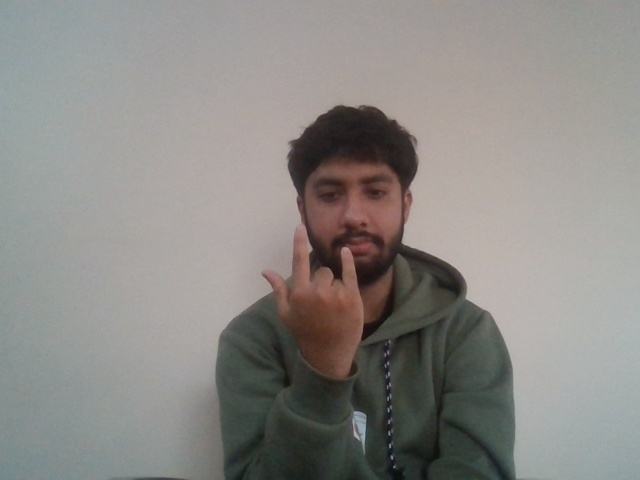IloveYou: (244, 226, 384, 346)
